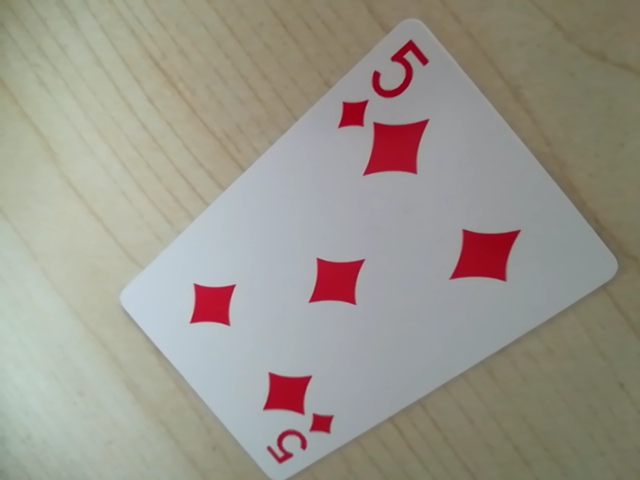fk 5: (344, 36, 430, 137), (260, 407, 339, 475)
